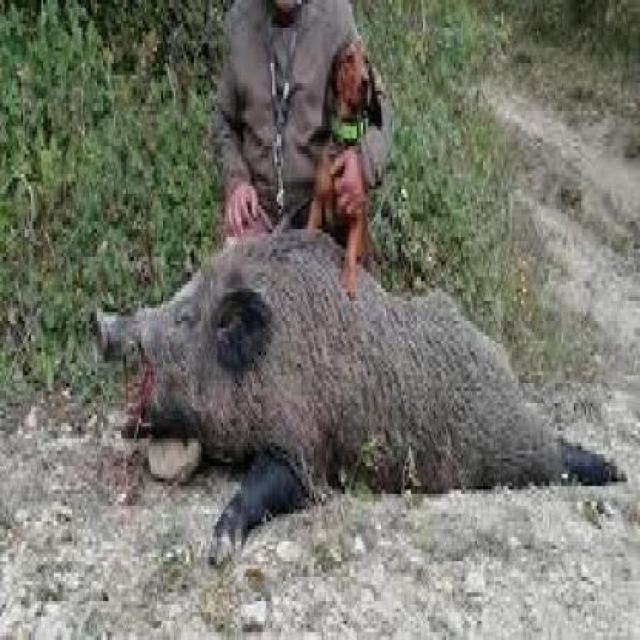wildboar: (85, 221, 627, 570)
